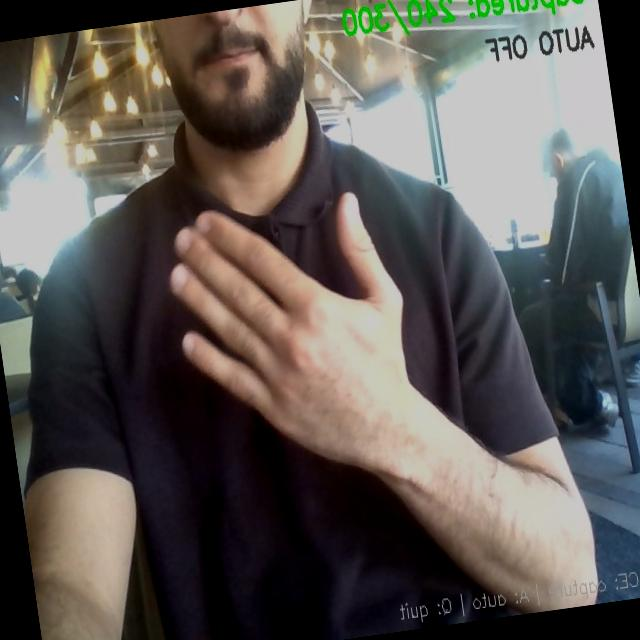Hand: (171, 194, 414, 469)
